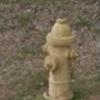a fire hydrant: (42, 18, 80, 100)
